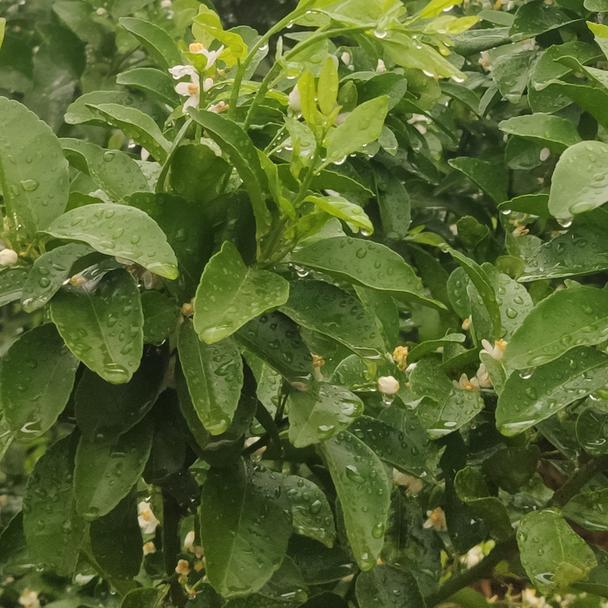shoot: (294, 79, 386, 228)
